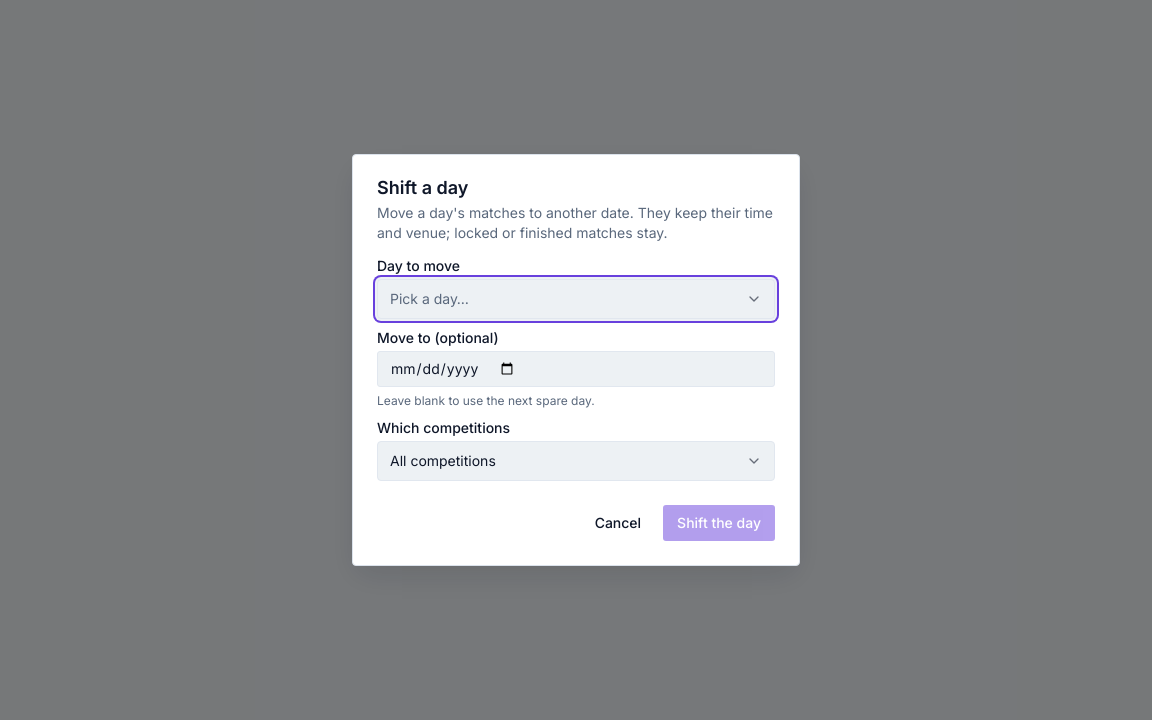
Test: ShiftDayDialog › blank target = first reserve day; success toasts moved-count + day
The width and height of the screenshot is (1152, 720).
Click the button with aria-label "Day to move" at (429, 298), box [377,279,775,319]
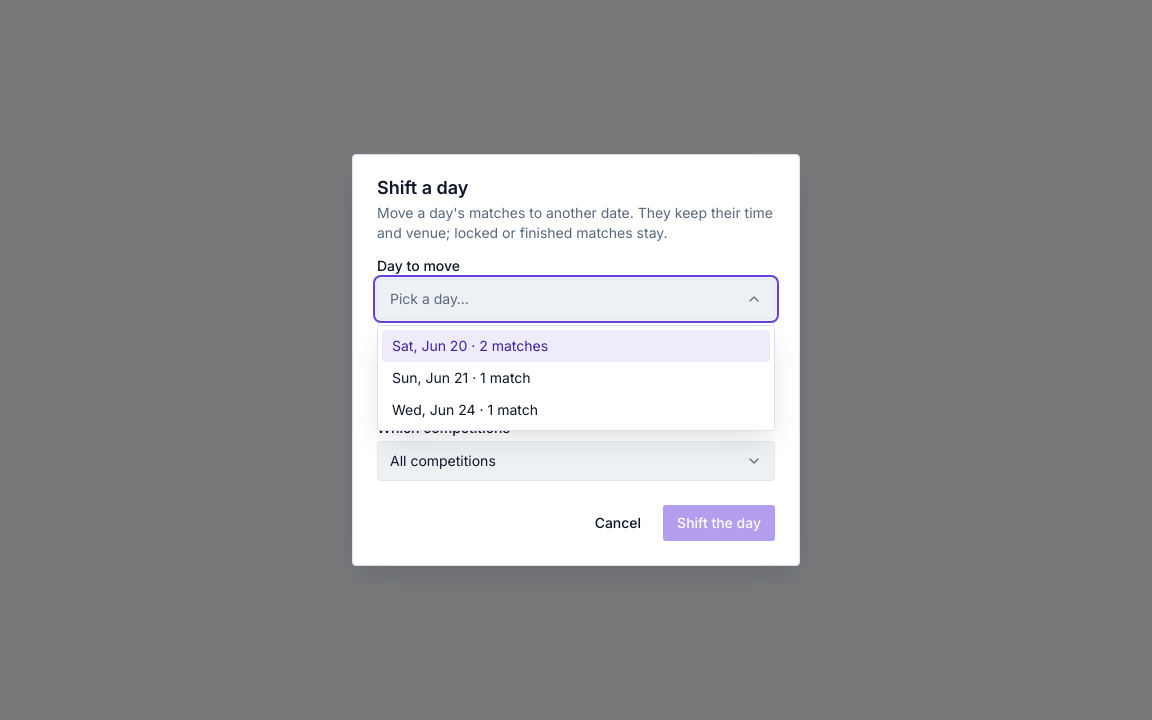
Click the option "Sat, Jun 20 · 2 matches" at (470, 346), box [382,330,770,362]
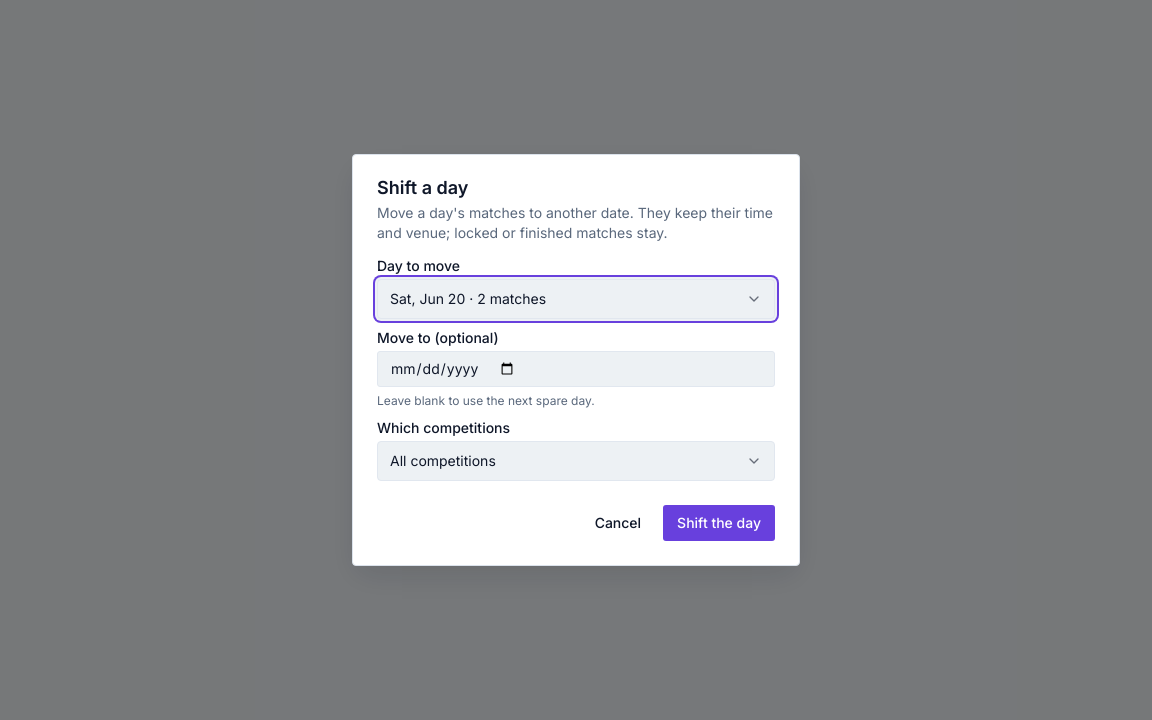
Click the button with test id "shift-submit" at (719, 523), box [663,505,775,541]
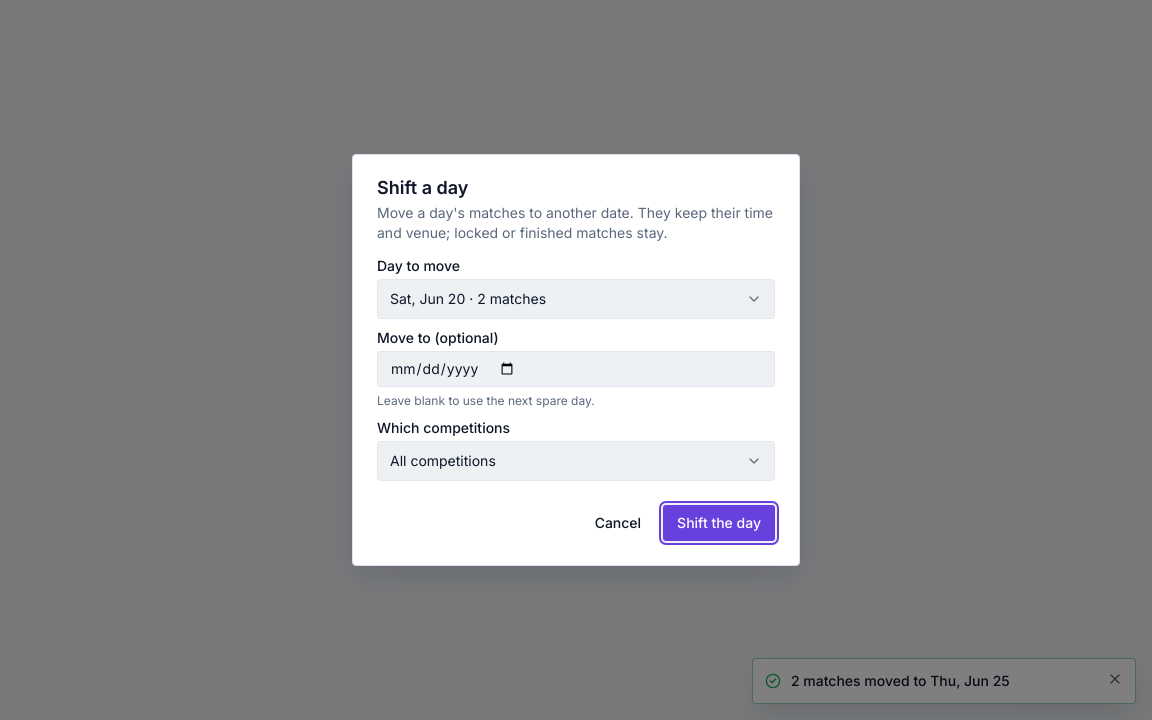
Result: the text "2 matches moved to Thu, Jun 25" is shown at [791,672,1010,689]
